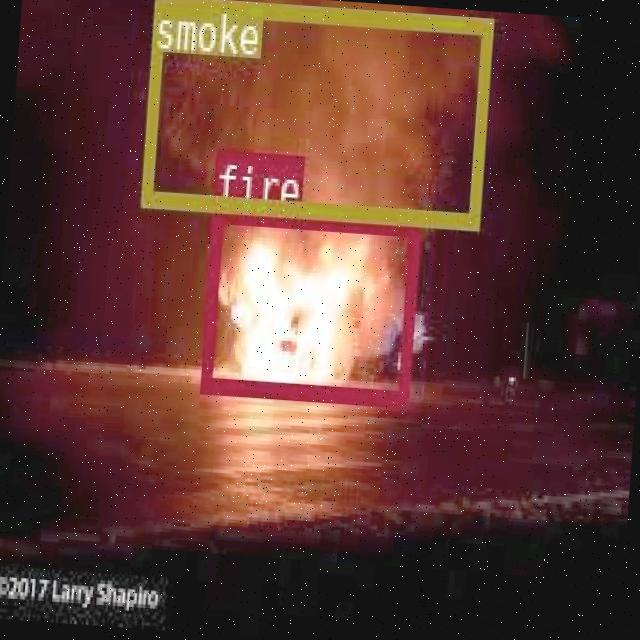fire: (198, 202, 418, 403)
smoke: (138, 0, 491, 227)
